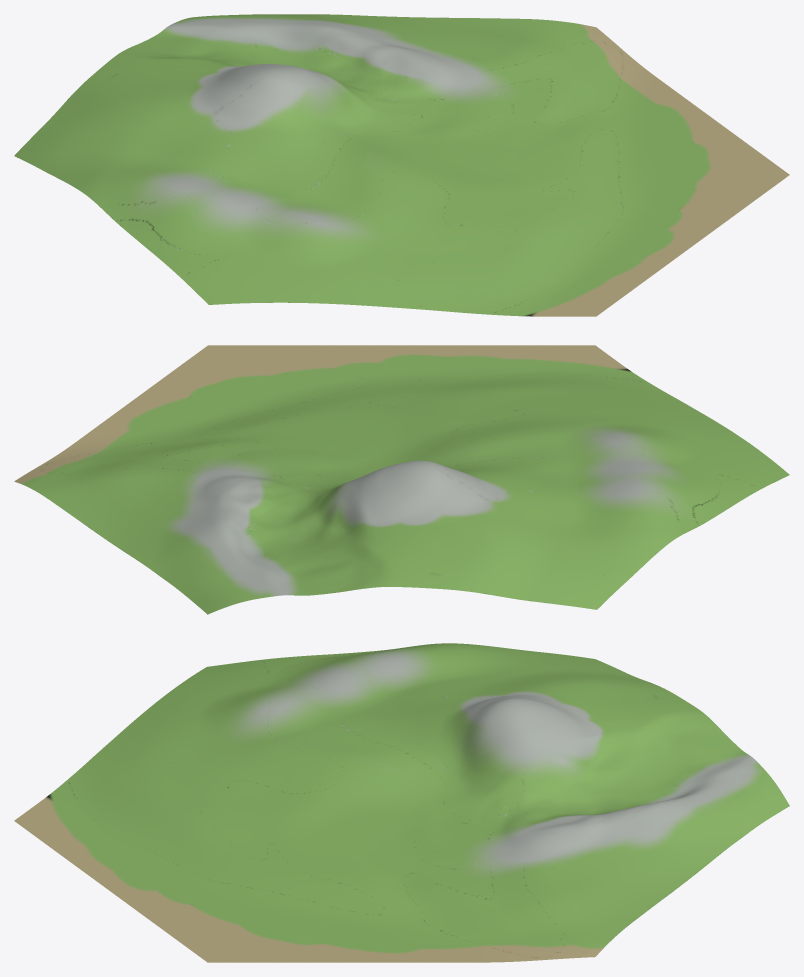
File: costal.glb
3 views of the same model, one above another, from view 1: azimuth 30°, elevation 25°; view 2: azimuth 150°, elevation 25°; view 3: azimuth 270°, elevation 25° (orthographic).
Visible parts, largest first — view 1: Circle; view 2: Circle; view 3: Circle.
Part boxes in pixels (x1,y1,x2,y2): Circle: (14, 14, 789, 316); Circle: (14, 345, 789, 614); Circle: (14, 643, 789, 962).
Bounding box in the file's own units: 348 × 45.59 × 401.
1 material, 1 textured.
